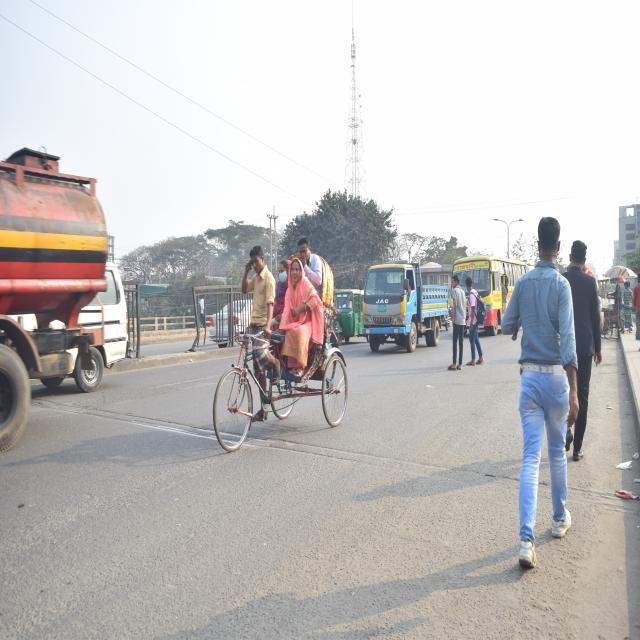bus: (451, 252, 529, 344)
microbus: (77, 256, 132, 385)
pickup-van: (358, 260, 448, 349)
truck: (0, 119, 113, 458)
